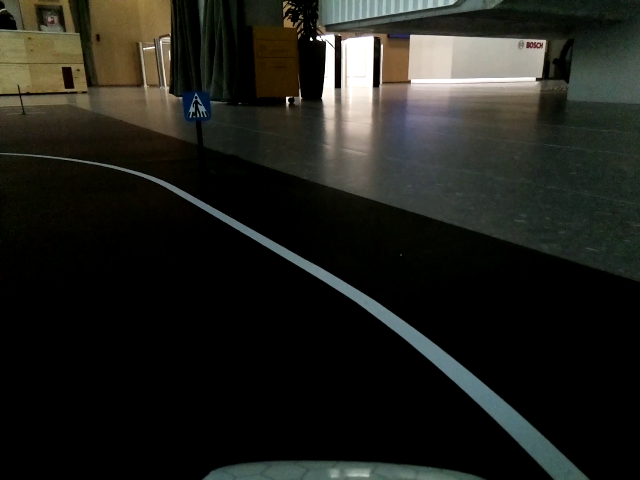pedestrians: (184, 91, 211, 122)
